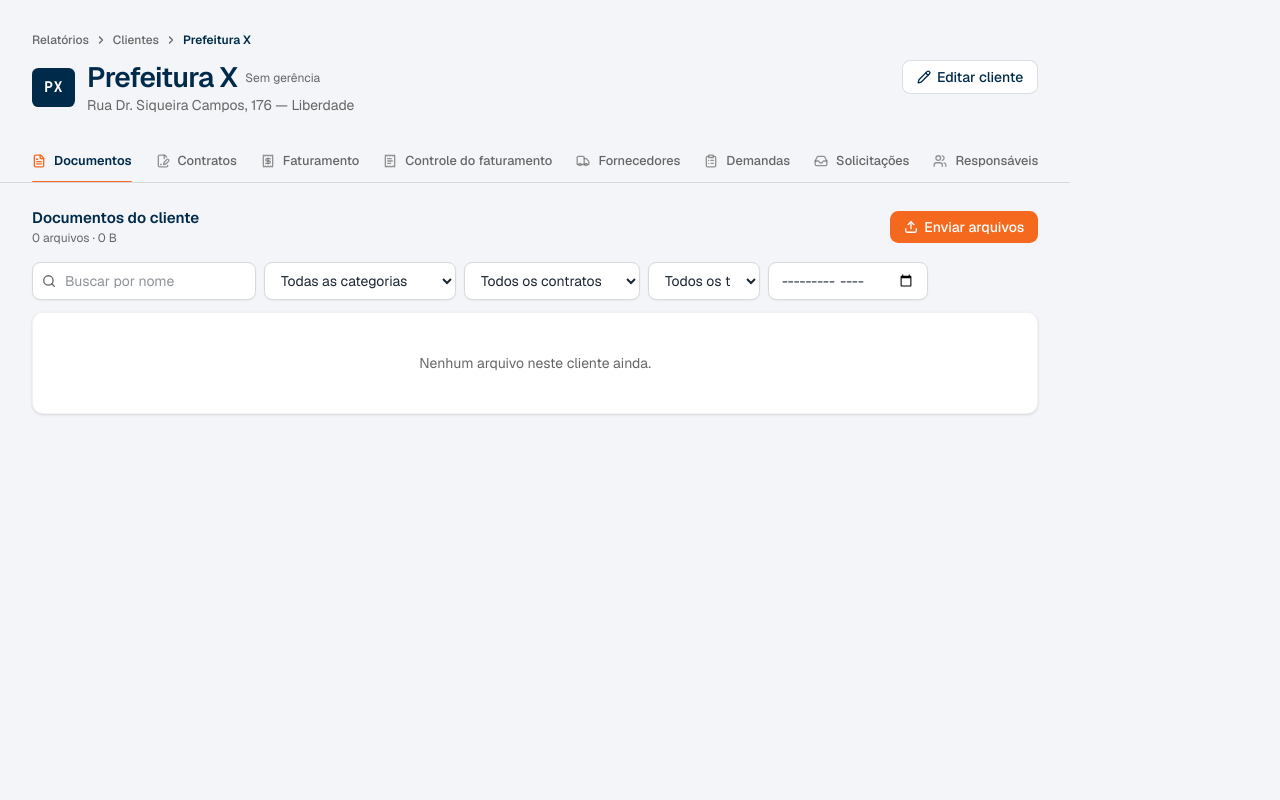
Test case: ClienteDetalhePage › "Editar cliente" abre o modal preenchido e salva com PATCH
The width and height of the screenshot is (1280, 800).
Click the button "Editar cliente" at (970, 77), box [902,60,1038,94]
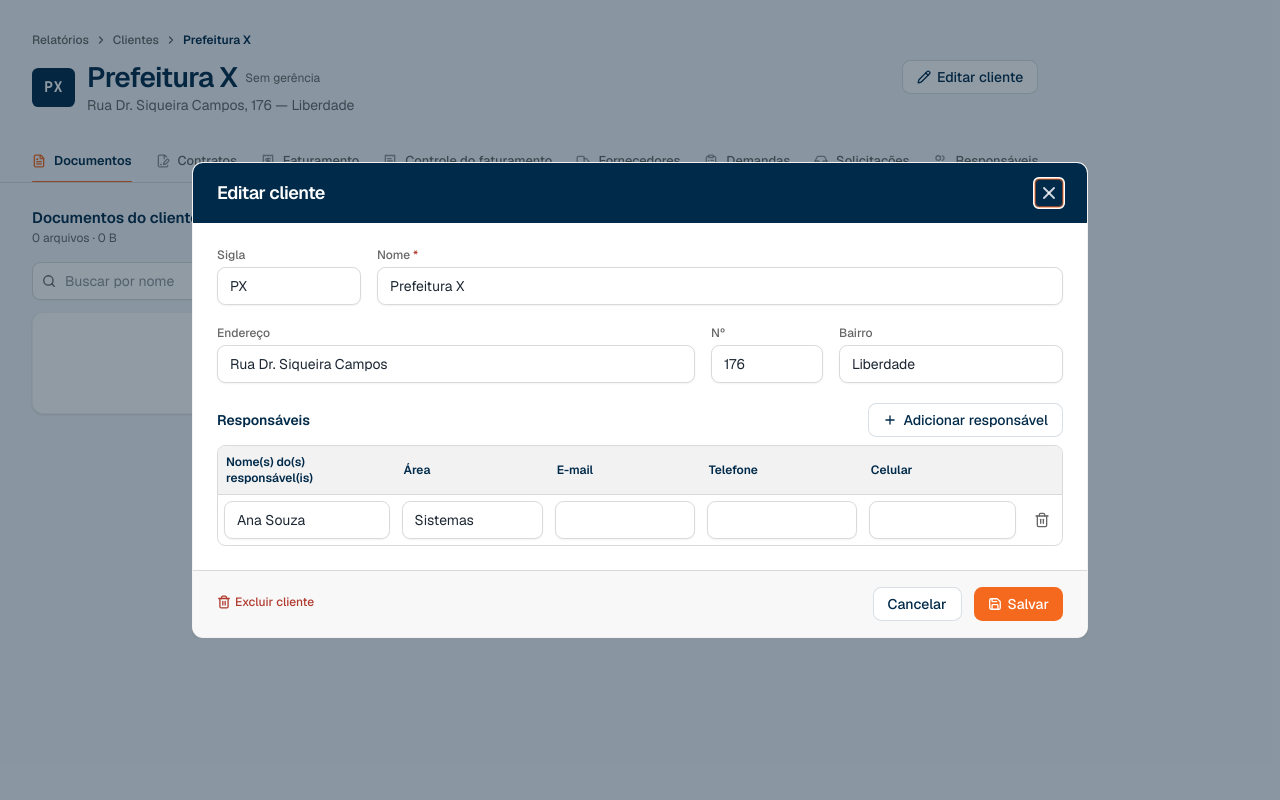
Now the field labelled "Nome *" holds "Prefeitura X", box [377,267,1063,305]
Now the field showing "Ana Souza" is shown, box [224,501,390,539]
Replace the text in the field labelled "Sigla" with "pxx" at (289, 286), box [217,267,361,305]
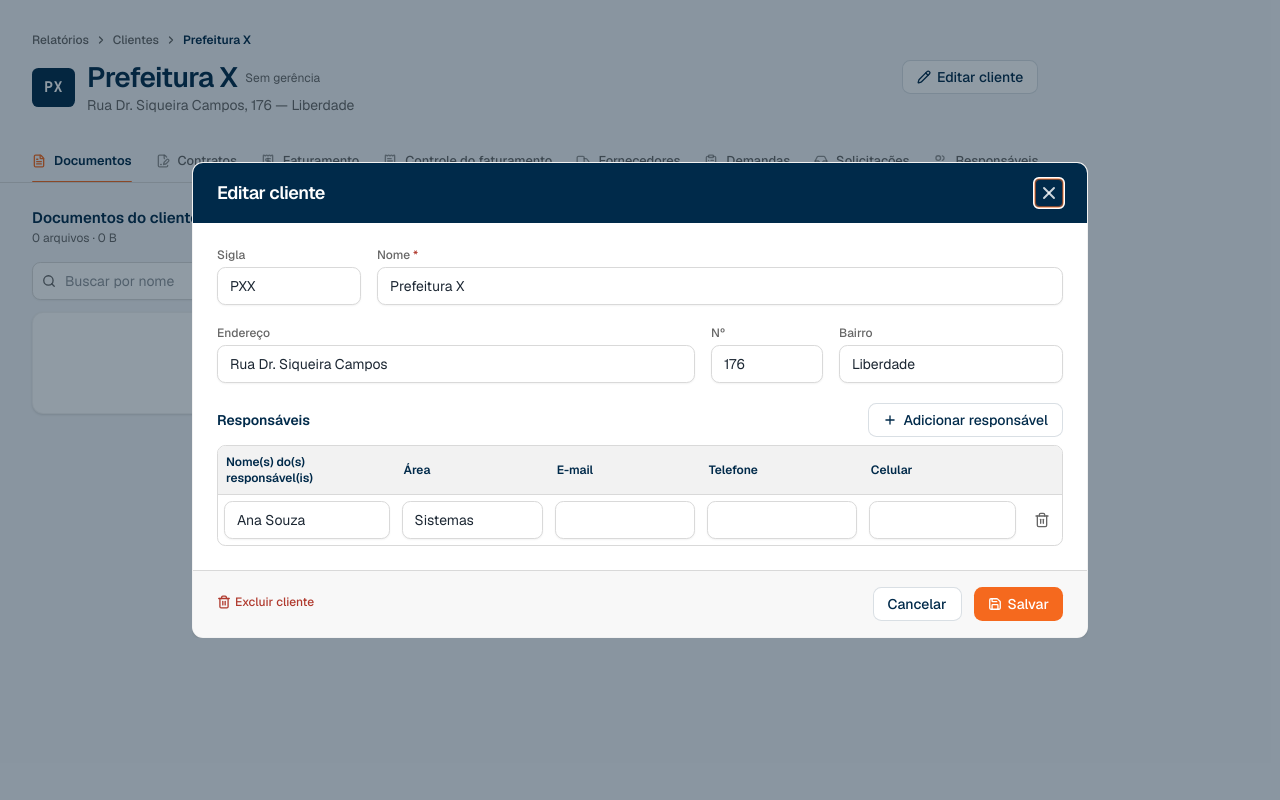
Replace the text in the field labelled "Bairro" with "Sé" at (951, 364), box [839,345,1063,383]
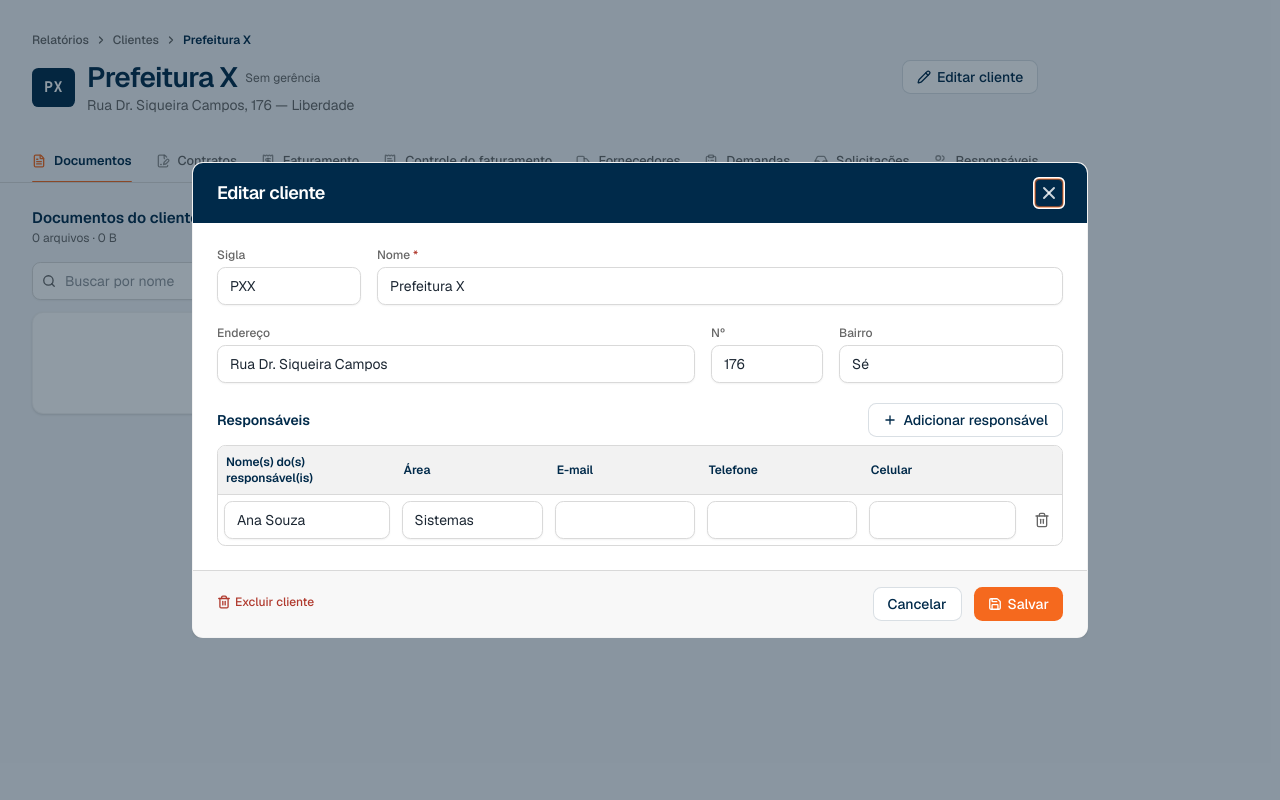
Click the button "Salvar" at (1018, 604), box [974,587,1063,621]
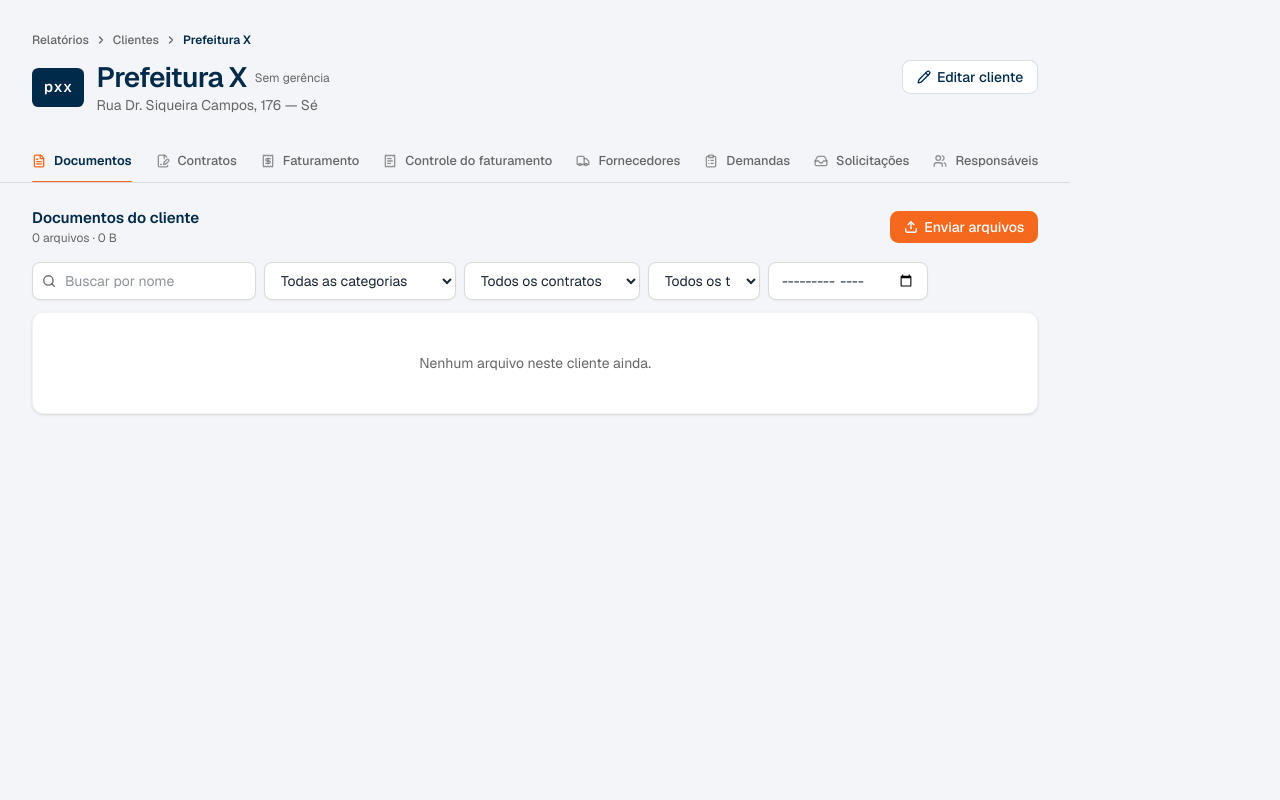
Now the text "Rua Dr. Siqueira Campos, 176 — Sé" is shown, box [96,95,330,115]
Now the button "Salvar" is gone
